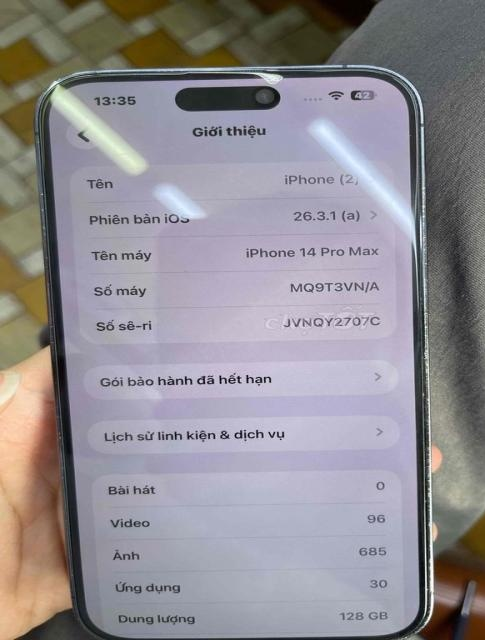scratch: (407, 329, 446, 574)
